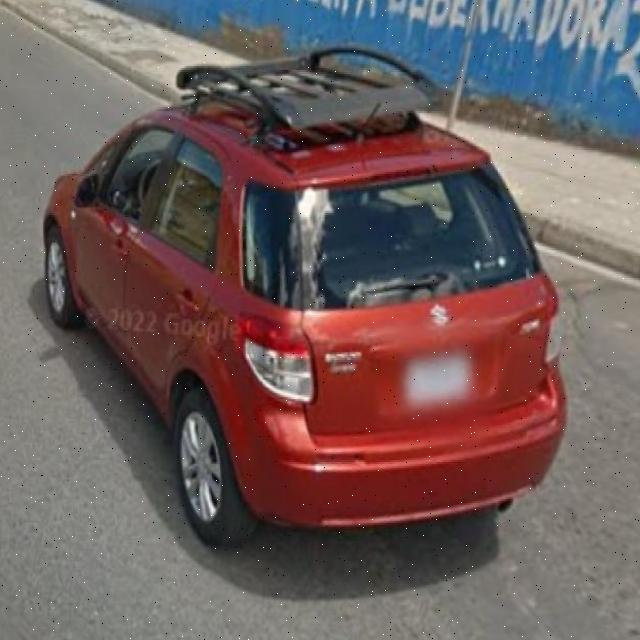car: (41, 64, 574, 542)
